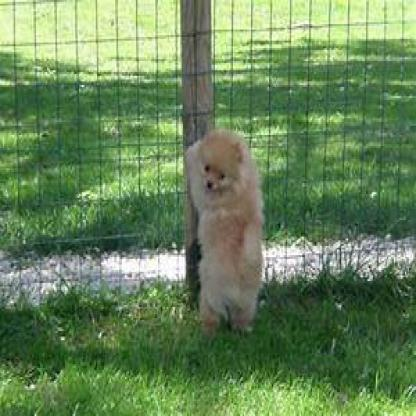dog: (184, 131, 265, 335)
